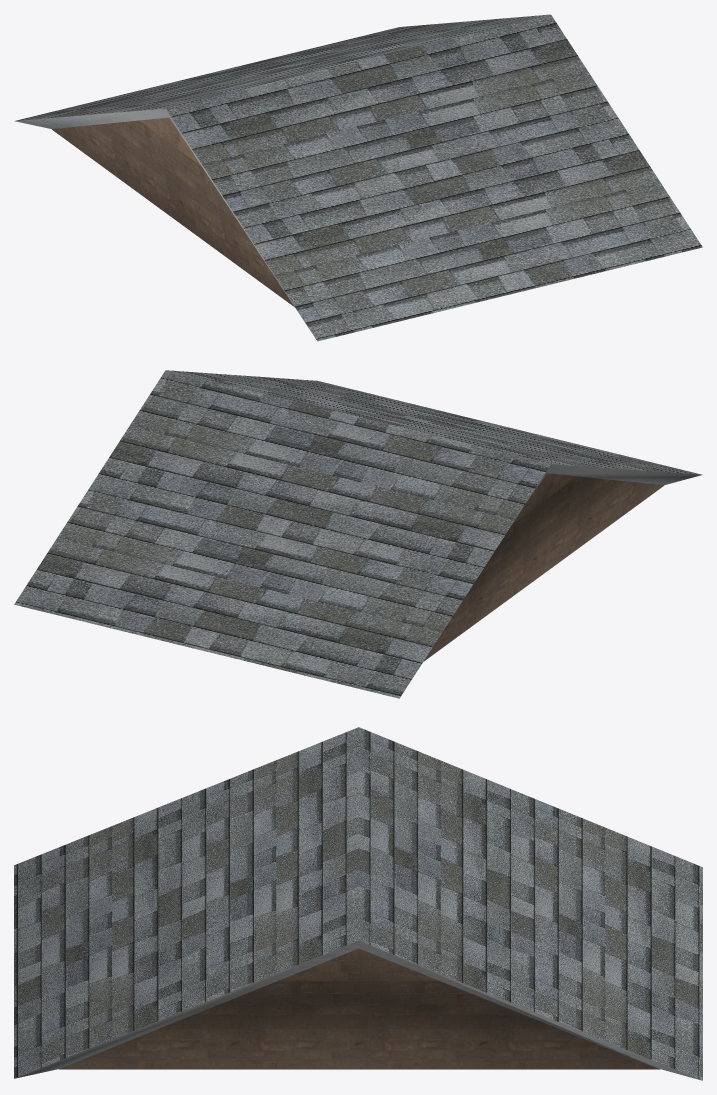
Rendered from libraryRoof.fbx.
The picture shows the model from 3 angles, top to bottom: view 1: azimuth 30°, elevation 25°; view 2: azimuth 150°, elevation 25°; view 3: azimuth 270°, elevation 25°; orthographic projection. The views are drawn at different scales.
Visible parts, largest first — view 1: libraryRoof; view 2: libraryRoof; view 3: libraryRoof.
Boxes of the visible parts, x1=… form: libraryRoof: x1=14, y1=14, x2=702, y2=341; libraryRoof: x1=14, y1=370, x2=702, y2=698; libraryRoof: x1=14, y1=727, x2=702, y2=1080.
Size of the model in its own units: 36.54 by 11.19 by 49.82.
Materials: 4 (3 with a texture image).
